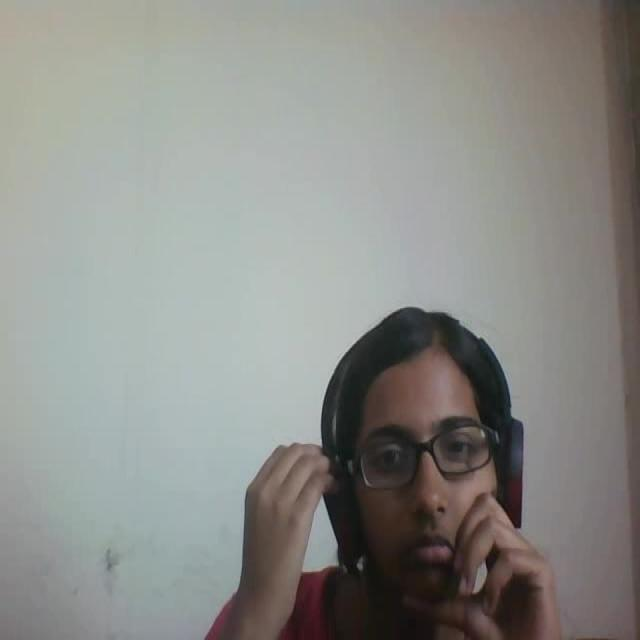Bored: (303, 272, 550, 640)
